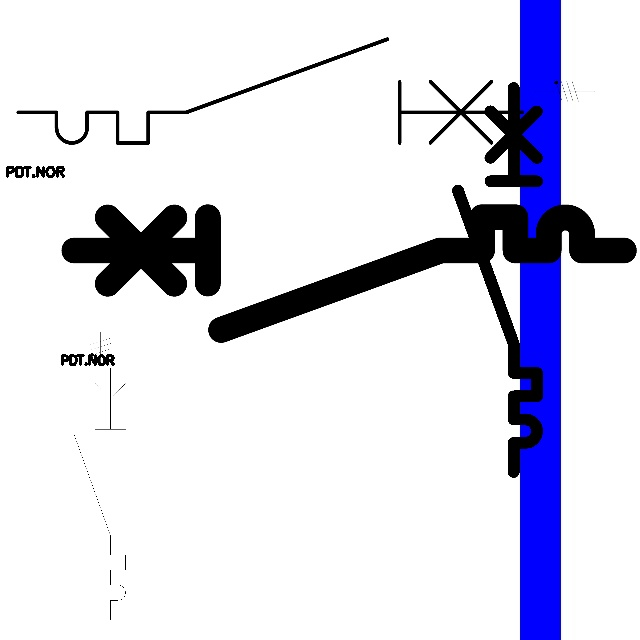interruptor_termomagnetico: (60, 203, 638, 344), (5, 26, 535, 156), (448, 78, 547, 482), (68, 361, 132, 625)
